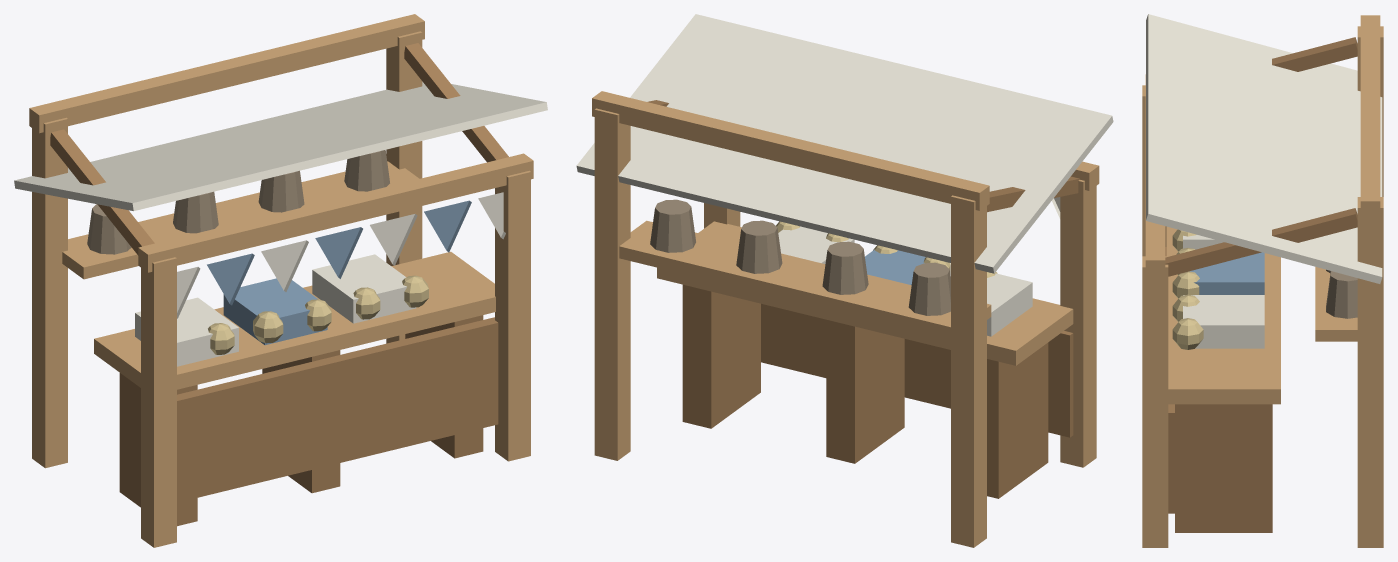
File: medieval-tournament-and-jousting-ground-merchant-stall-9a839369.glb
The picture shows the model from 3 angles, left to right: view 1: azimuth 30°, elevation 25°; view 2: azimuth 150°, elevation 25°; view 3: azimuth 270°, elevation 25°; orthographic projection.
Visible parts, largest first — view 1: merchant-stall; view 2: merchant-stall; view 3: merchant-stall.
Boxes of the visible parts, x1,y1,x2,y2 form: merchant-stall: [14, 14, 547, 547]; merchant-stall: [576, 14, 1113, 547]; merchant-stall: [1142, 14, 1383, 547].
Bounding box in the file's own units: 2.9 × 2.36 × 1.48.
